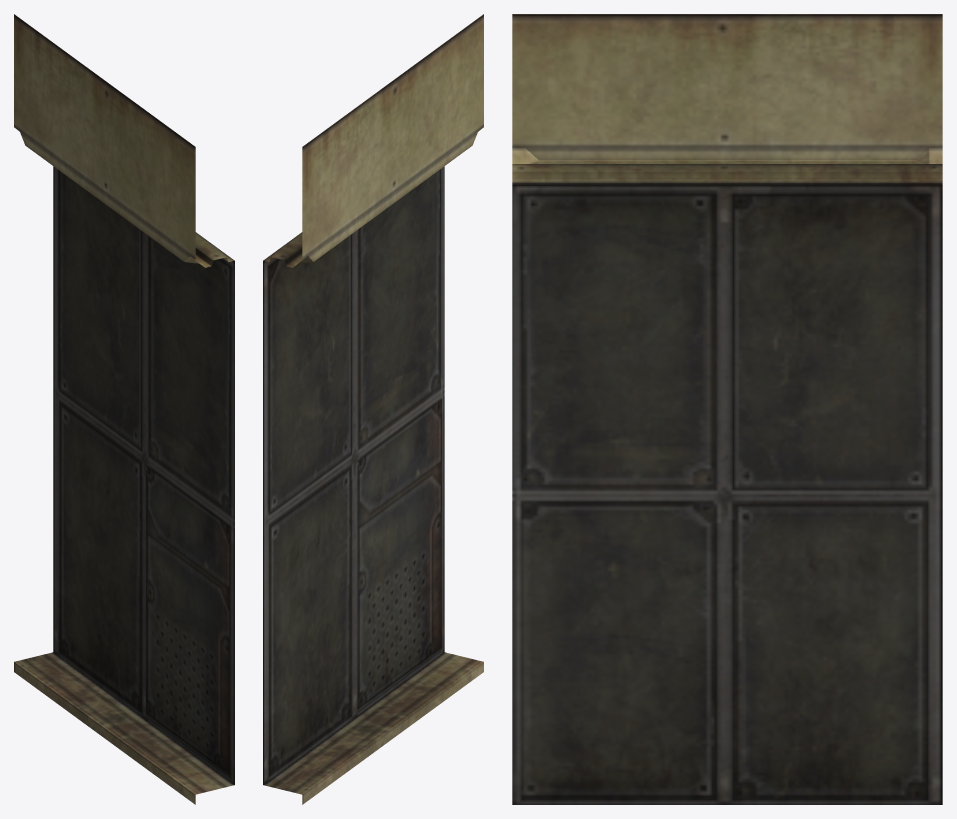
Rendered from pplant_ground_short_perforated.dae.
3 views of the same model, side by side, from view 1: azimuth 30°, elevation 25°; view 2: azimuth 150°, elevation 25°; view 3: azimuth 270°, elevation 25° (orthographic). The views are drawn at different scales.
Parts seen in each view (by area): view 1: ground_short_perforated; view 2: ground_short_perforated; view 3: ground_short_perforated.
Boxes of the visible parts, left/top/right/bottom form: ground_short_perforated: left=14, top=14, right=234, bottom=804; ground_short_perforated: left=263, top=14, right=483, bottom=804; ground_short_perforated: left=512, top=14, right=942, bottom=804.
Bounding box in the file's own units: 0.25 × 4 × 2.
